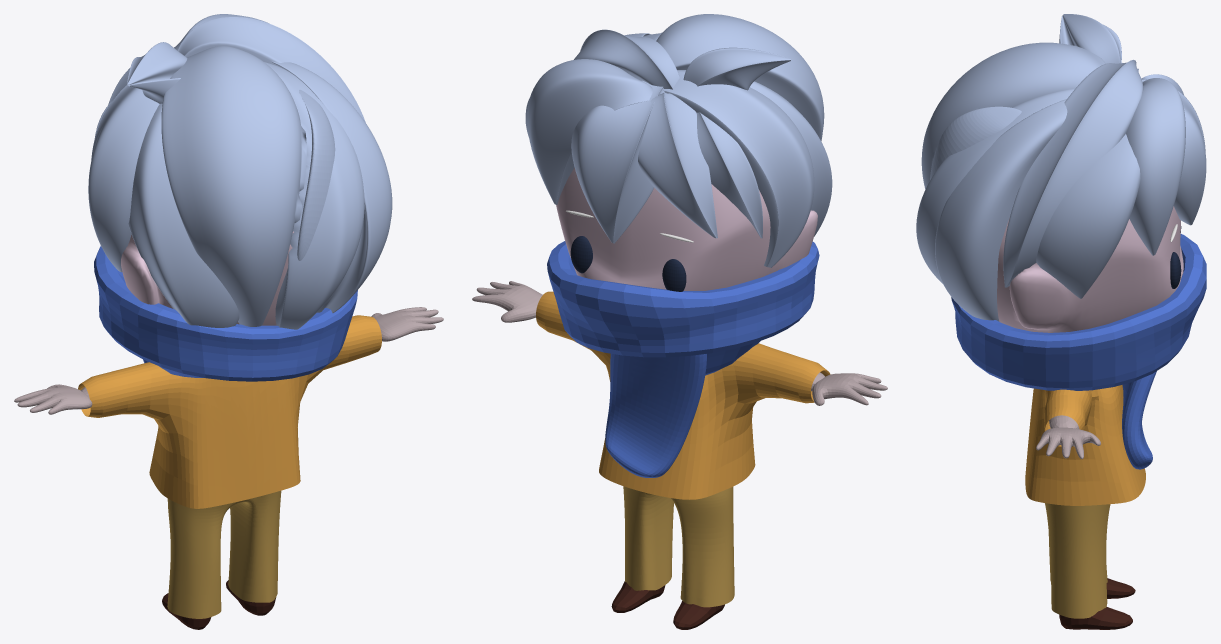
File: koriModelEyes.fbx
3 renders of one model, left to right at view 1: azimuth 30°, elevation 25°; view 2: azimuth 150°, elevation 25°; view 3: azimuth 270°, elevation 25°, orthographic. The views are drawn at different scales.
Visible parts, largest first — view 1: hair2.004, Cube; view 2: hair2.004, Sphere; view 3: hair2.004, Cube.
Boxes of the visible parts, bbox=[...] form: hair2.004: bbox=[14, 14, 443, 629]; Cube: bbox=[297, 90, 335, 260]; hair2.004: bbox=[472, 14, 887, 629]; Sphere: bbox=[570, 236, 686, 291]; hair2.004: bbox=[916, 14, 1206, 629]; Cube: bbox=[930, 106, 1021, 180].
Size of the model in its own units: 5484 by 7373 by 3452.
